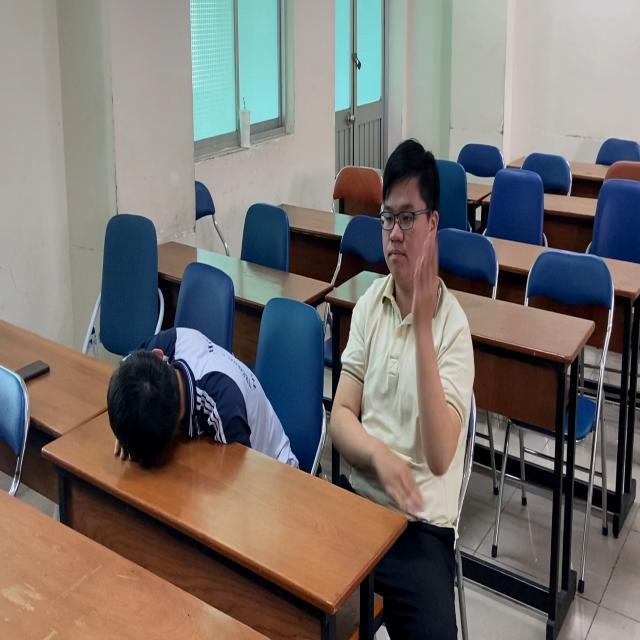raise_hand: (352, 130, 478, 522)
sleep: (103, 321, 297, 486)
